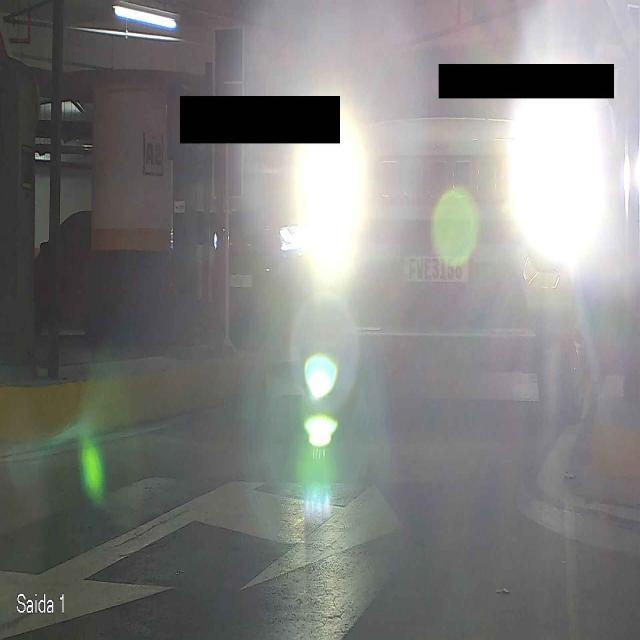mercosul_plate: (400, 247, 471, 284)
